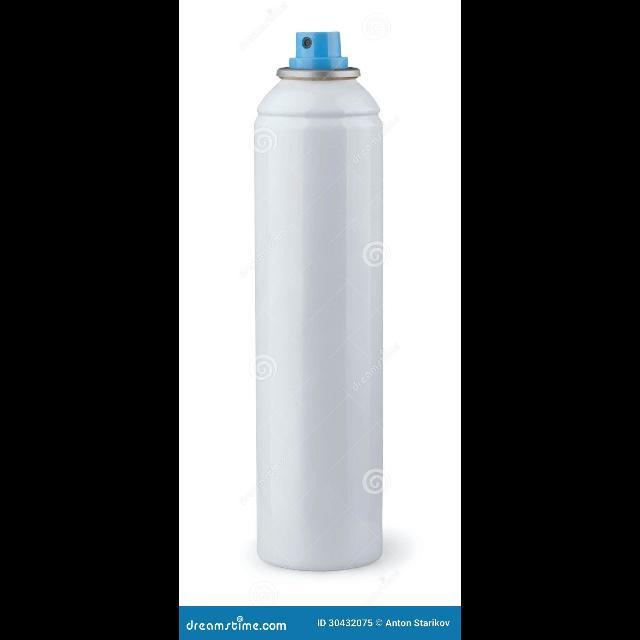chemical_spray_can: (231, 25, 411, 582)
